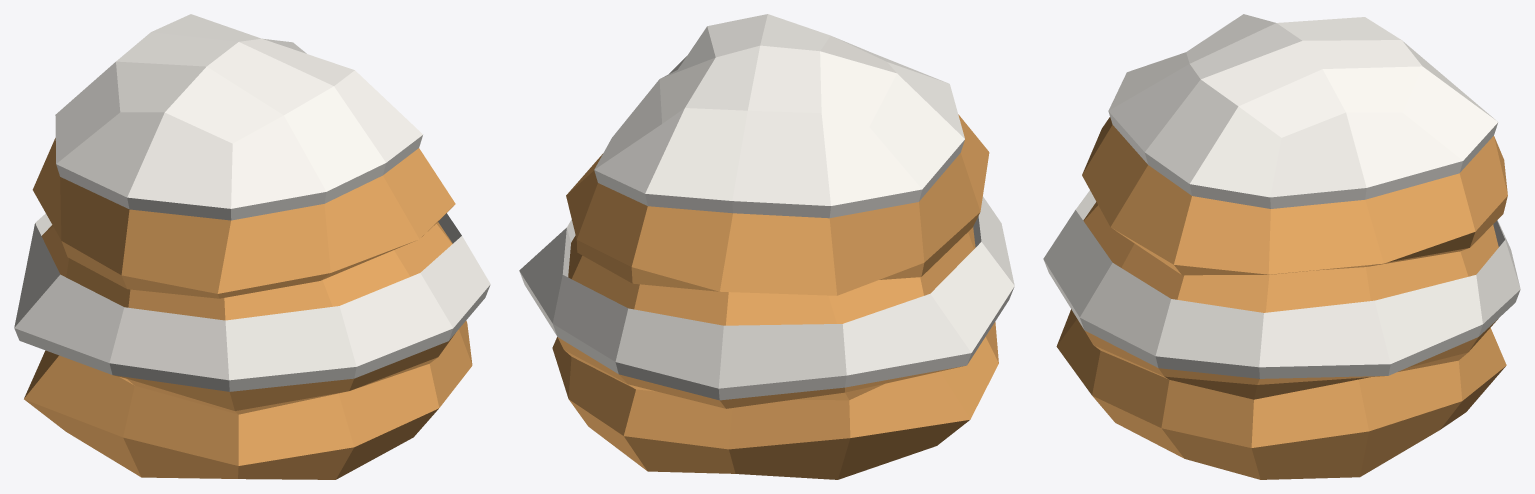
Rendered from Bush_Snow_2.glb.
3 views of the same model, side by side, from view 1: azimuth 30°, elevation 25°; view 2: azimuth 150°, elevation 25°; view 3: azimuth 270°, elevation 25° (orthographic). The views are drawn at different scales.
Parts seen in each view (by area): view 1: Bush_Snow_2; view 2: Bush_Snow_2; view 3: Bush_Snow_2.
Boxes of the visible parts, box(x1,y1,x2,y2) form: Bush_Snow_2: box(14, 14, 490, 479); Bush_Snow_2: box(519, 14, 1014, 479); Bush_Snow_2: box(1043, 14, 1520, 479).
Size of the model in its own units: 1.36 by 1.16 by 1.36.
